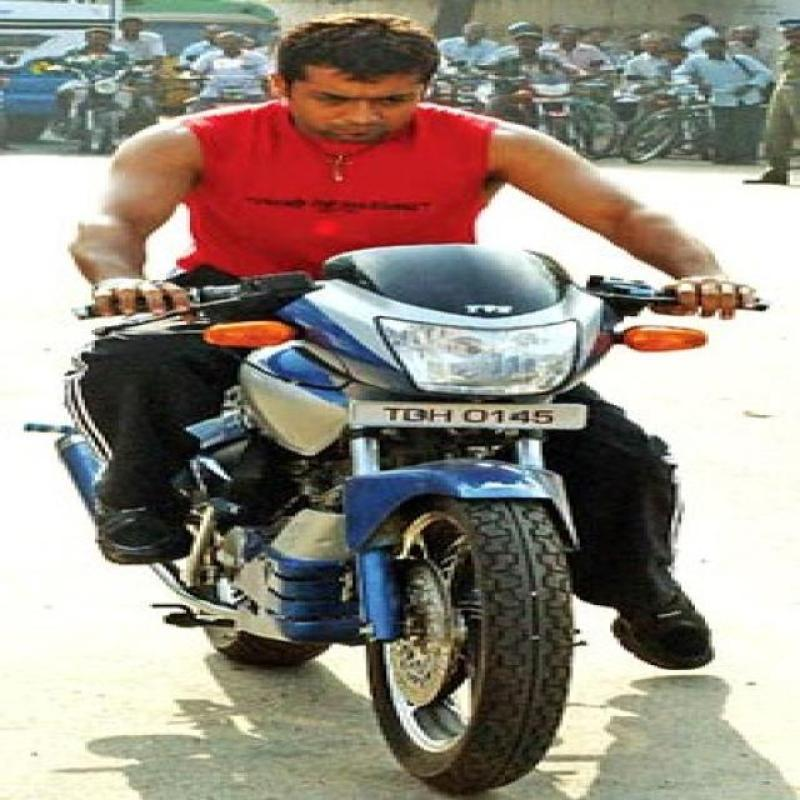nohelmet: (249, 13, 455, 148)
